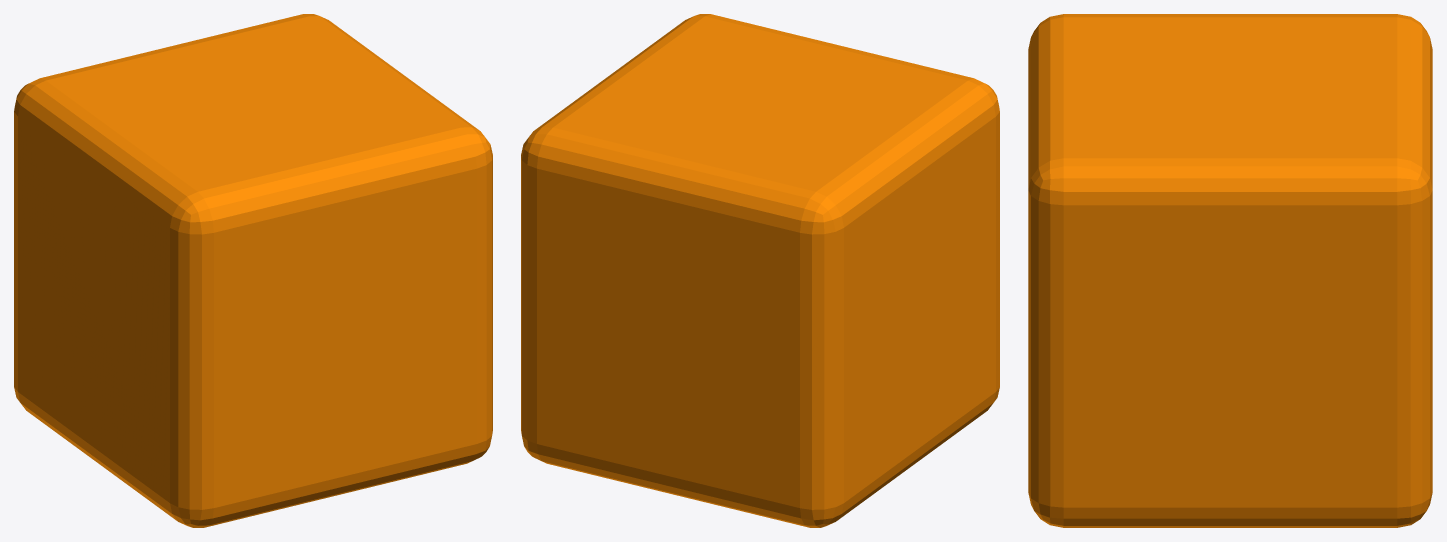
The model's file is Cube_orange.fbx.
3 views of the same model, side by side, from view 1: azimuth 30°, elevation 25°; view 2: azimuth 150°, elevation 25°; view 3: azimuth 270°, elevation 25° (orthographic). The views are drawn at different scales.
Parts seen in each view (by area): view 1: Cube; view 2: Cube; view 3: Cube.
Part boxes in pixels (x1=…): Cube: x1=14, y1=14, x2=492, y2=527; Cube: x1=521, y1=14, x2=999, y2=527; Cube: x1=1028, y1=14, x2=1432, y2=527.
Size of the model in its own units: 200 by 200 by 200.
Materials: 1 (1 with a texture image).
